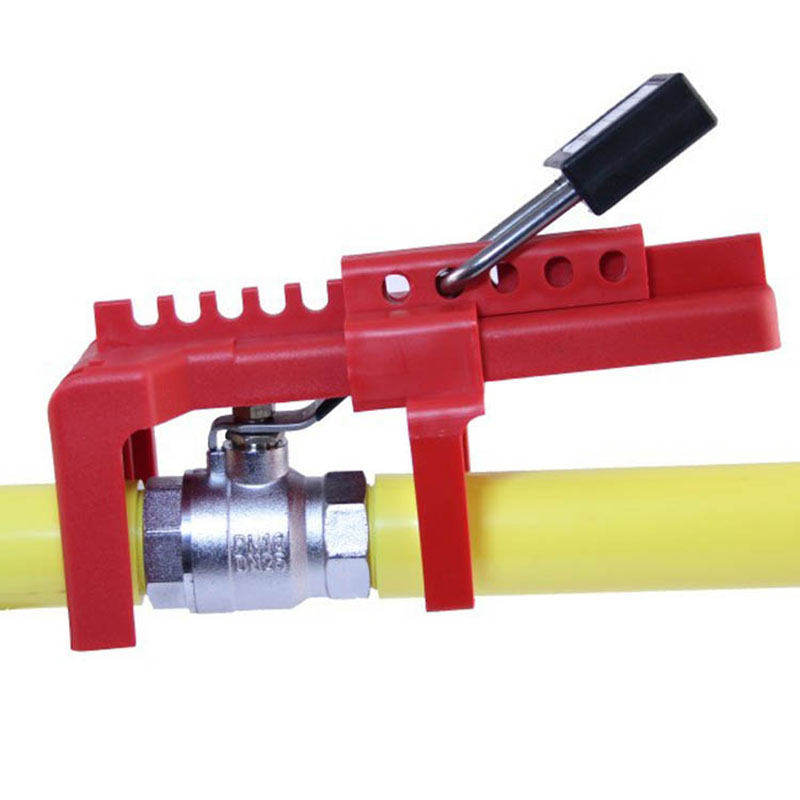hasp: (54, 227, 780, 680)
lock: (425, 70, 723, 284)
